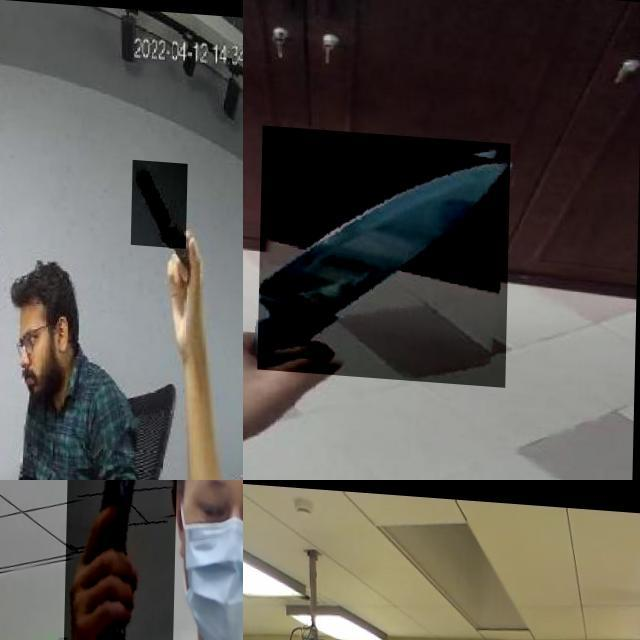-: (259, 122, 512, 380), (132, 152, 188, 240)
gun-knife-thesis - v11 Yolov5 augmented: (65, 480, 179, 640)
